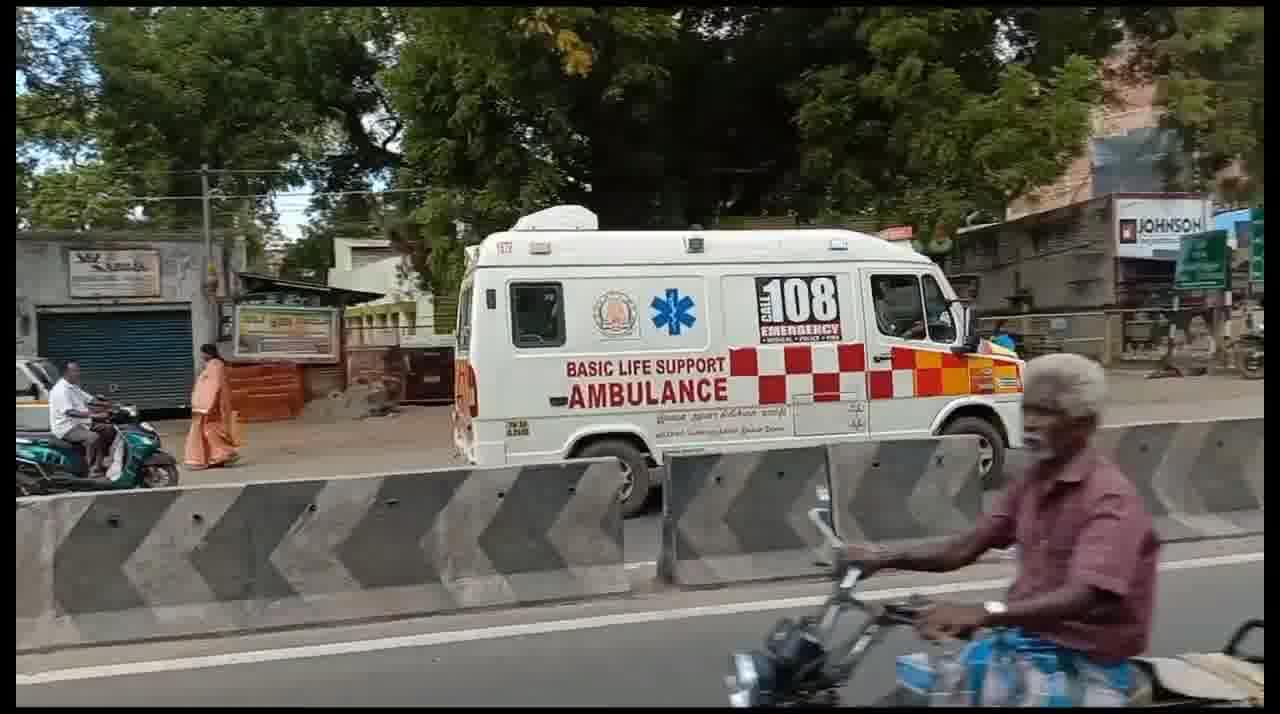AMBULANCE: (445, 210, 1026, 430)
